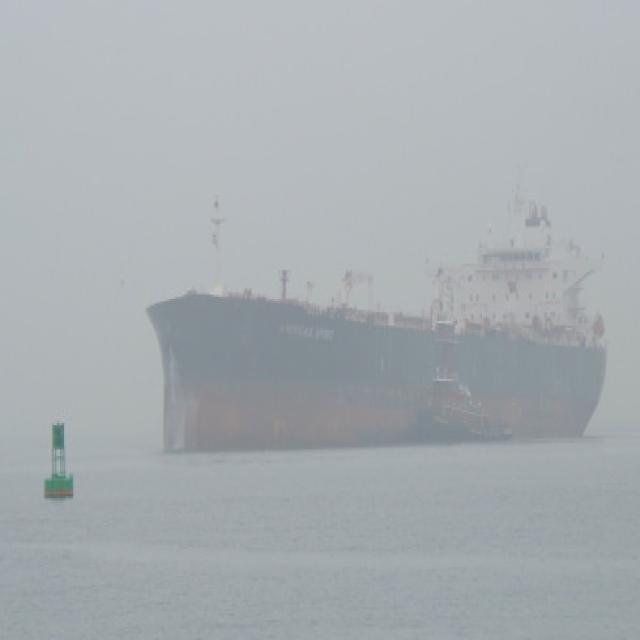buoy: (41, 418, 75, 501)
cargoship: (146, 190, 606, 448)
